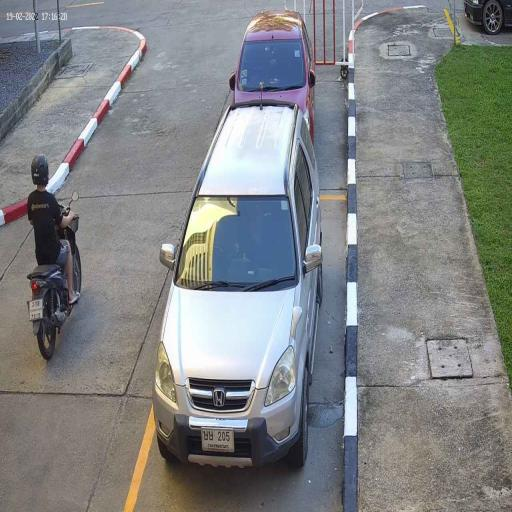car: (153, 98, 323, 473), (230, 10, 316, 146)
motorcycle: (25, 242, 84, 360)
